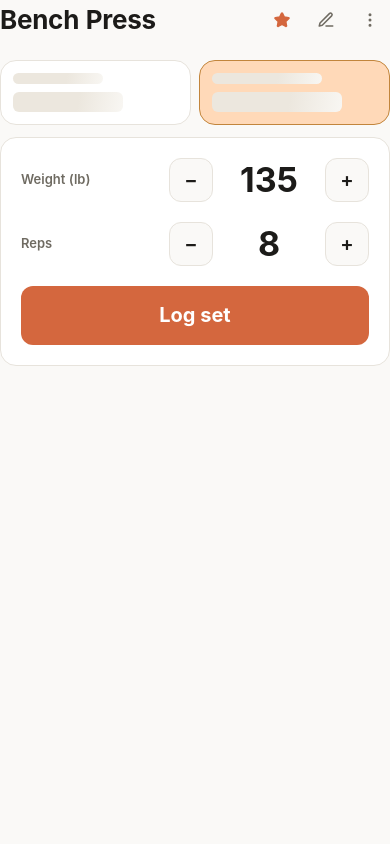
Test: ExerciseDetail in-flight visual feedback › editing a paused-offline set shows the corrected values immediately and queues a separate EDIT_SET, without removing or recreating the create
Click the button "Log set" at (195, 316), box x1=21 y1=286 x2=369 y2=345
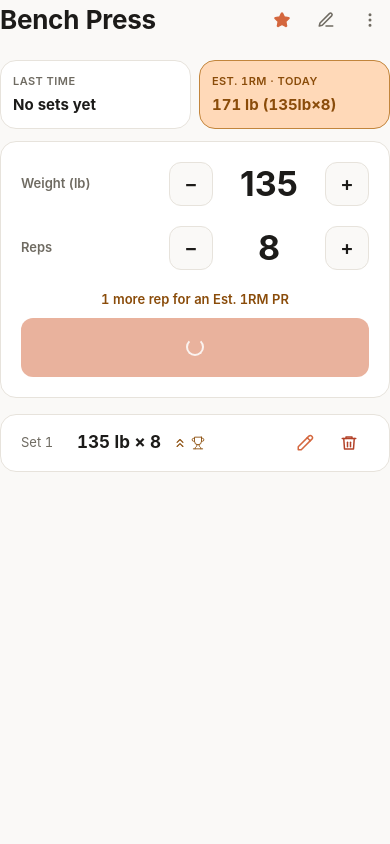
Check: the text "135 lb × 8" is shown, box x1=77 y1=430 x2=161 y2=455
Click the button named "Edit" at (305, 442), box x1=285 y1=422 x2=325 y2=462
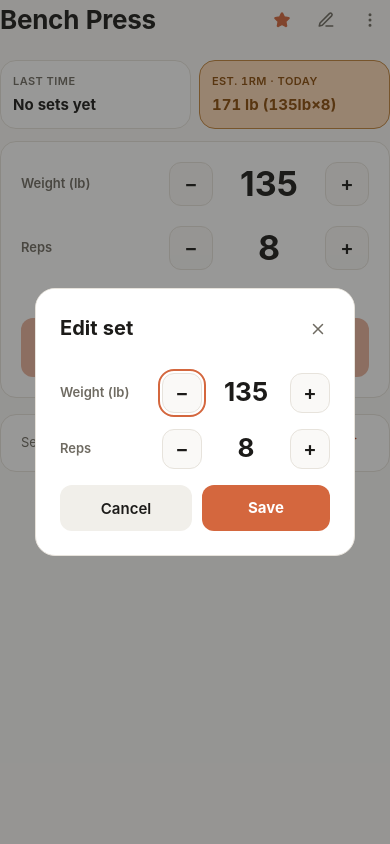
Click the 1st button "+" at (310, 393), box x1=290 y1=373 x2=330 y2=413
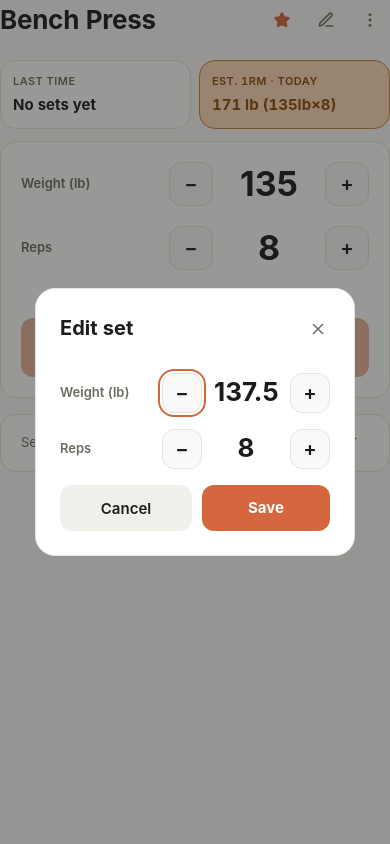
Click the button "Save" at (266, 508), box x1=202 y1=485 x2=330 y2=531
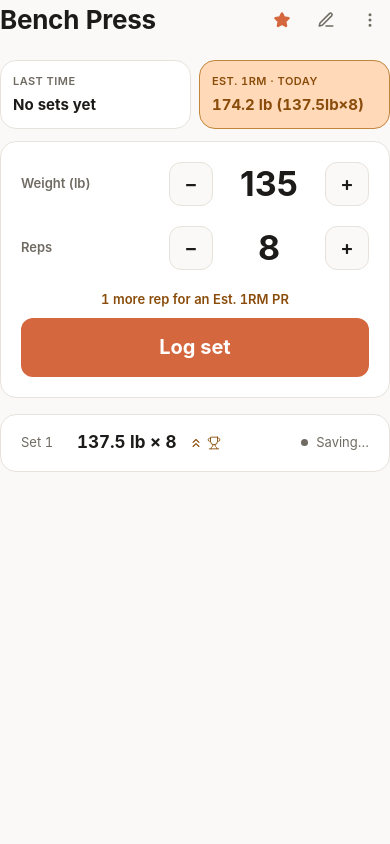
Check: the text "137.5 lb × 8" is shown, box x1=77 y1=430 x2=176 y2=455
